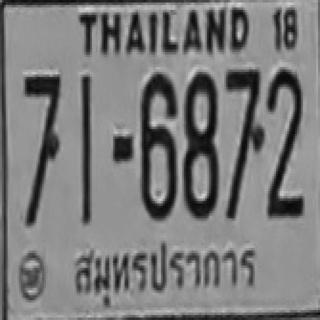N01: (80, 73, 90, 190)
N02: (265, 67, 302, 191), (265, 99, 304, 216)
N06: (139, 71, 176, 217)
N07: (223, 68, 262, 217), (23, 73, 60, 197), (224, 67, 262, 169), (224, 67, 262, 156), (24, 73, 60, 162)
N08: (182, 70, 217, 216)
P57: (73, 240, 261, 308)
